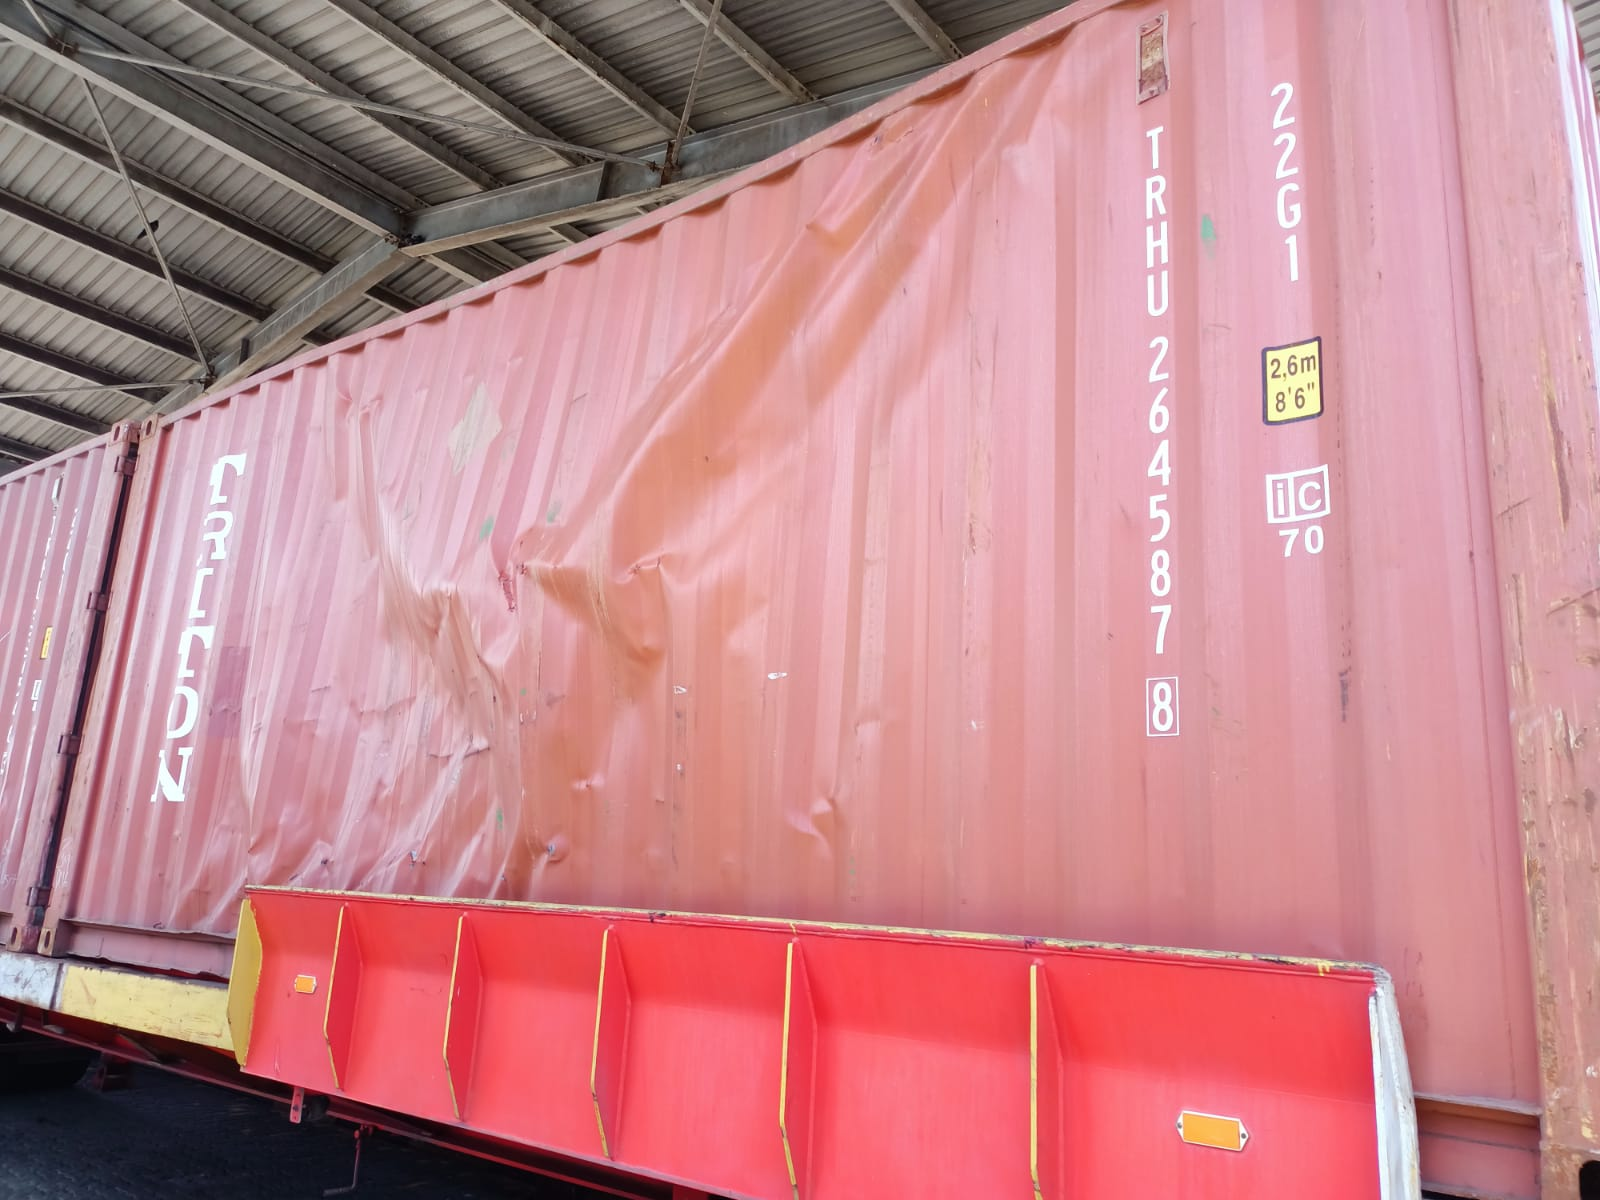bulged: (578, 95, 1065, 614), (213, 512, 543, 886)
